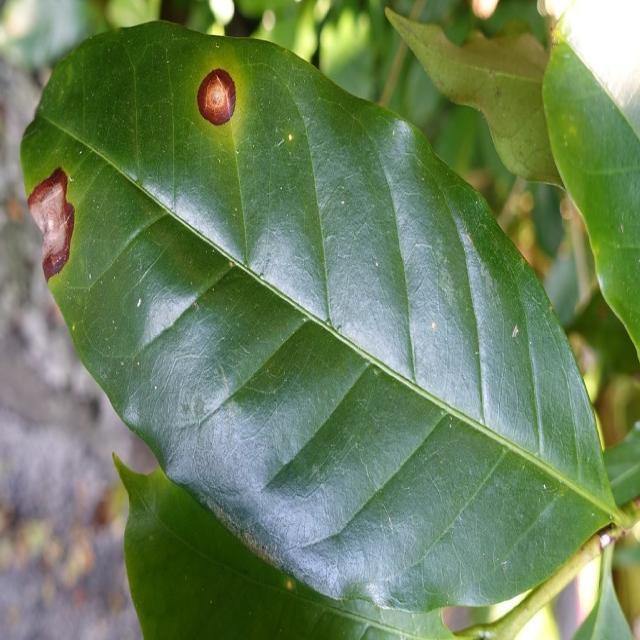Enfermedad-Mancha-de-hierro: (19, 22, 640, 640)
